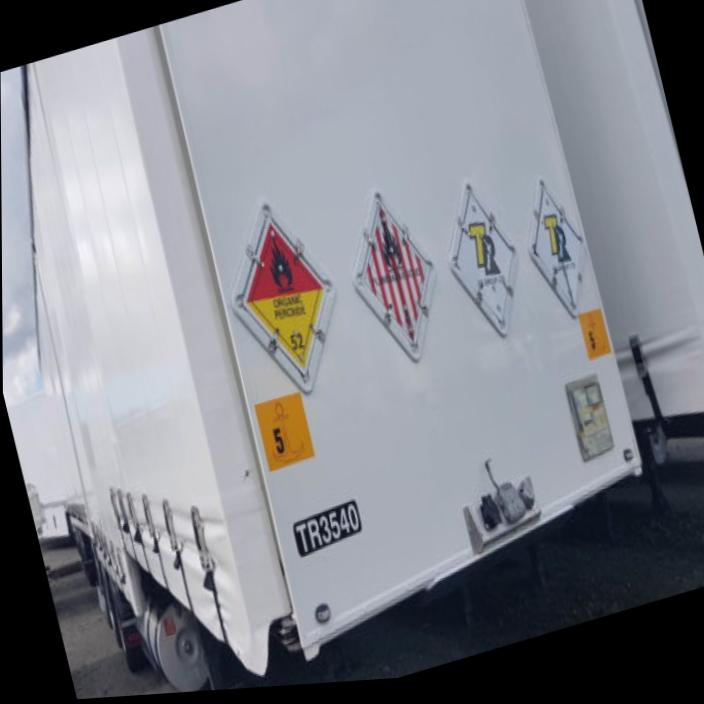chair: (354, 195, 432, 358)
defibrillator sign: (232, 205, 332, 392)
